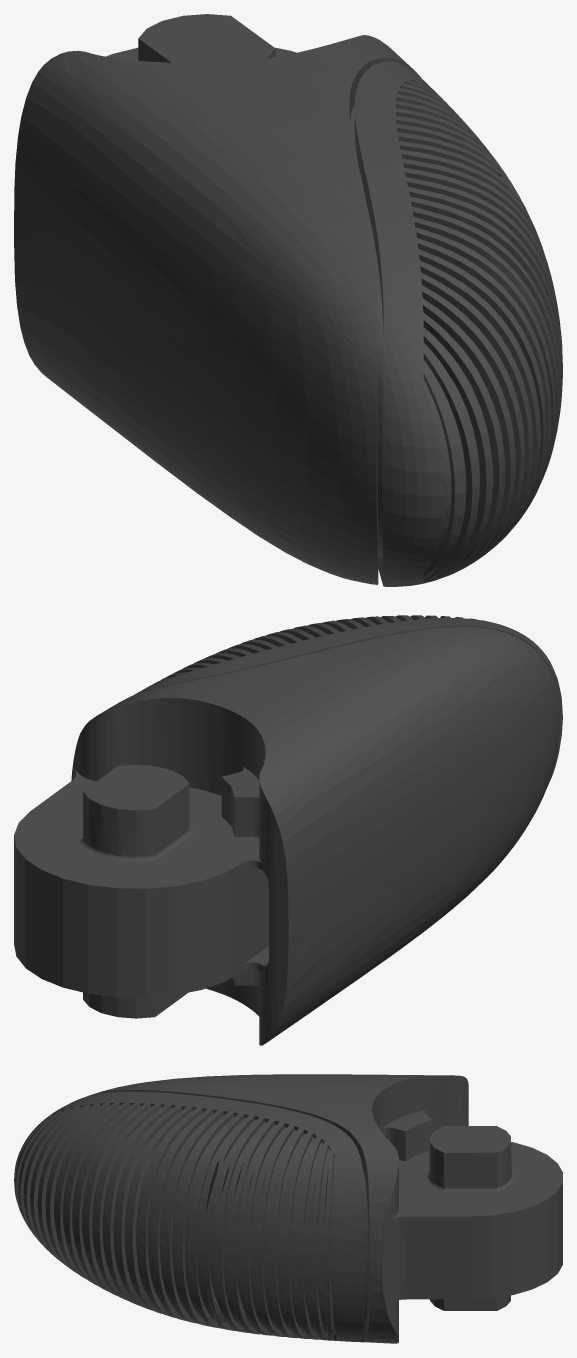
The model's file is lh_middle_distal_vis.obj.
The picture shows the model from 3 angles, top to bottom: view 1: azimuth 30°, elevation 25°; view 2: azimuth 150°, elevation 25°; view 3: azimuth 270°, elevation 25°; orthographic projection. The views are drawn at different scales.
Visible parts, largest first — view 1: lh_middle_distal; view 2: lh_middle_distal; view 3: lh_middle_distal.
Part boxes in pixels (<box>): lh_middle_distal: <box>14,14,562,586</box>; lh_middle_distal: <box>14,615,562,1045</box>; lh_middle_distal: <box>14,1074,562,1343</box>.
Bounding box in the file's own units: 0.0151 × 0.0145 × 0.033.
Materials: 1 (1 with a texture image).
